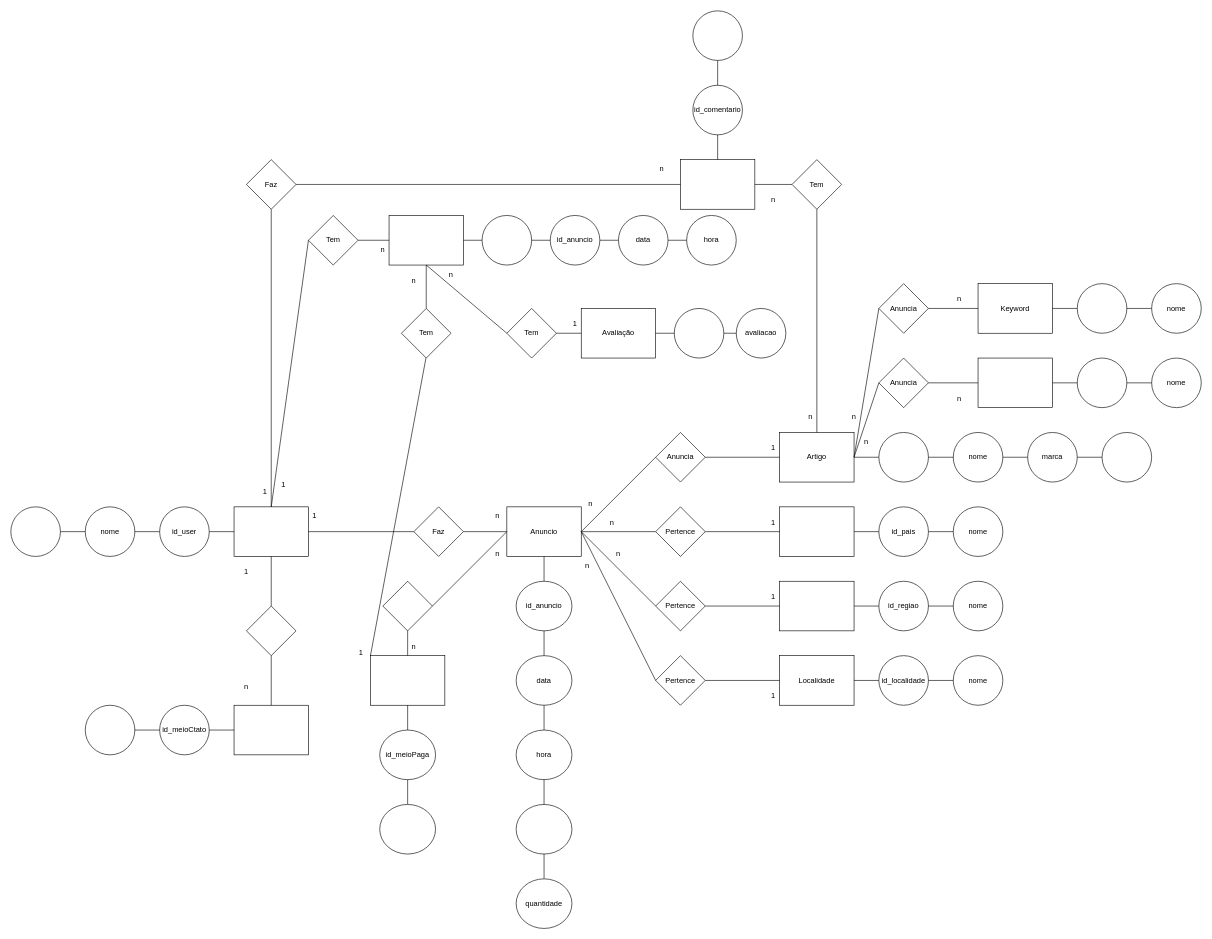
Some shapes in this 1212 by 939 pixel diagram are drawn without their labels. The shapes that lost their labels are listed below. From the top down, each one's box as (x1, y1, x2, y2) in pixels, then its label:
(692, 10, 742, 60): comentario
(680, 159, 755, 209): Comentário
(388, 215, 463, 265): Factura
(481, 215, 532, 265): id_factura
(1077, 283, 1127, 333): id_keyword
(674, 308, 724, 358): id_avaliacao
(977, 357, 1052, 408): Categoria
(1077, 357, 1127, 408): id_categoria
(878, 432, 928, 482): id_artigo
(1101, 432, 1152, 482): modelo
(10, 506, 60, 556): idade
(233, 506, 308, 556): Conta de Utilizador
(779, 506, 854, 556): País
(382, 581, 432, 631): Permite
(779, 581, 854, 631): Região
(370, 655, 445, 705): Meio de Pagamento
(85, 705, 135, 755): meioCtato
(233, 705, 308, 755): Meio de Contacto
(379, 804, 436, 854): meioPagamento
(516, 804, 572, 854): preçoUnitario
